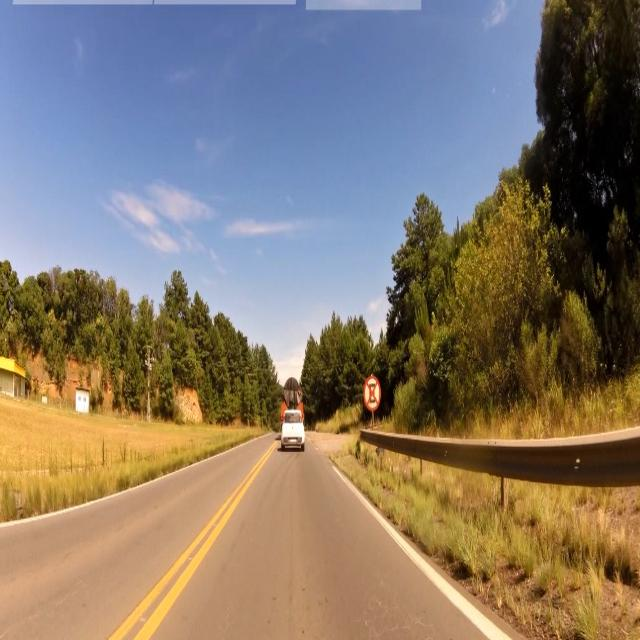R-6c: (364, 376, 382, 414)
